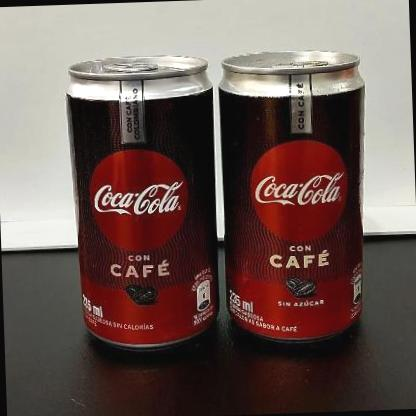alumunium_can: (60, 50, 226, 353), (216, 46, 376, 348)
